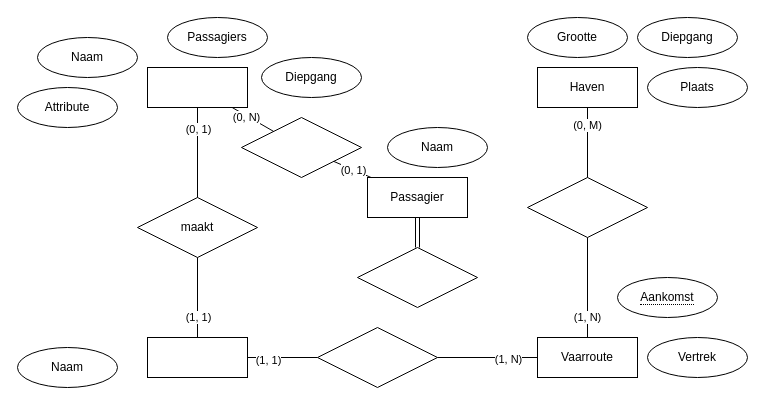
Some shapes in this 765 by 405 pixel diagram are drawn without their labels. The centre of each missing label's shape, as x and y in pixels:
"boekt met" belongs at [417,277].
"Cruise" belongs at [197,357].
"meert aan" belongs at [587,207].
"Schip" belongs at [197,87].
"volgt" belongs at [377,357].
"zit op" belongs at [301,147].
